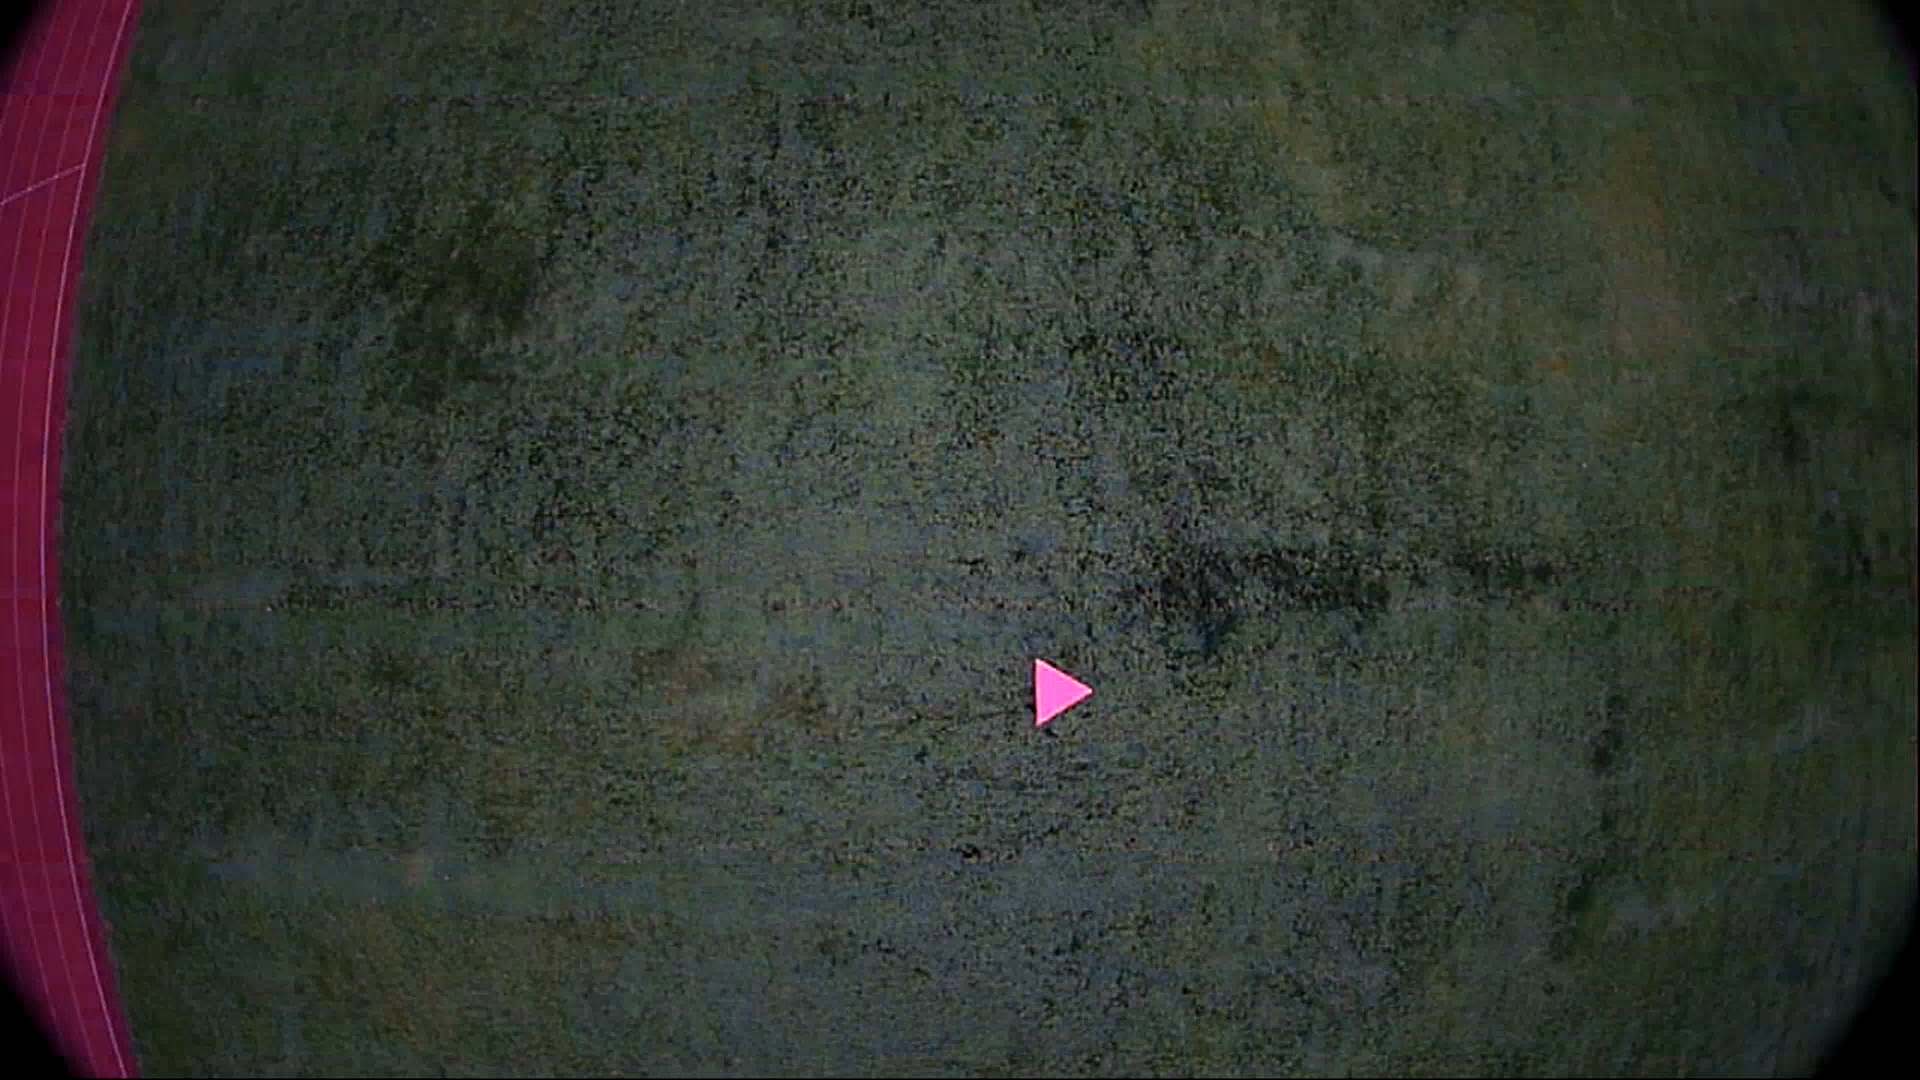triangle: (1025, 646, 1097, 735)
